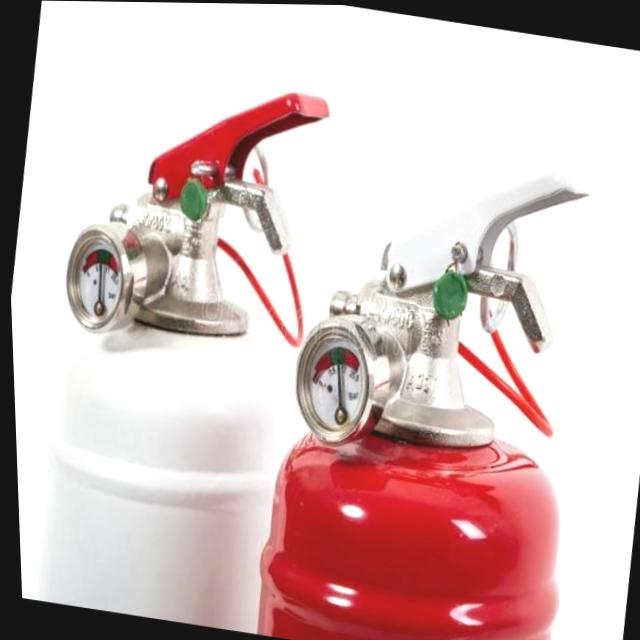FireExtinguisher: (2, 52, 362, 639), (229, 117, 621, 640)
